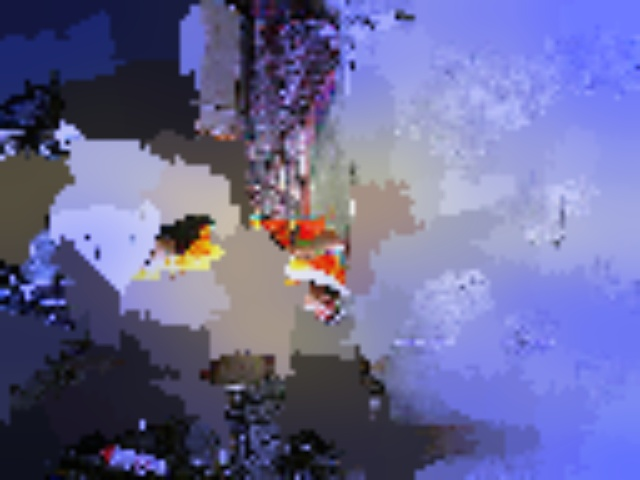one: (55, 233, 96, 265)
